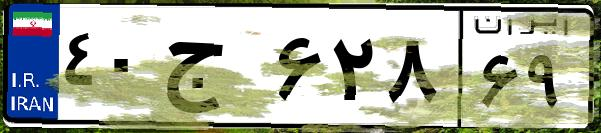0: (110, 28, 158, 98)
2: (330, 28, 385, 110)
4: (57, 26, 110, 100)
6: (270, 28, 330, 110), (475, 38, 525, 113)
8: (385, 28, 445, 110)
9: (525, 38, 570, 115)
ج: (158, 20, 270, 120)
